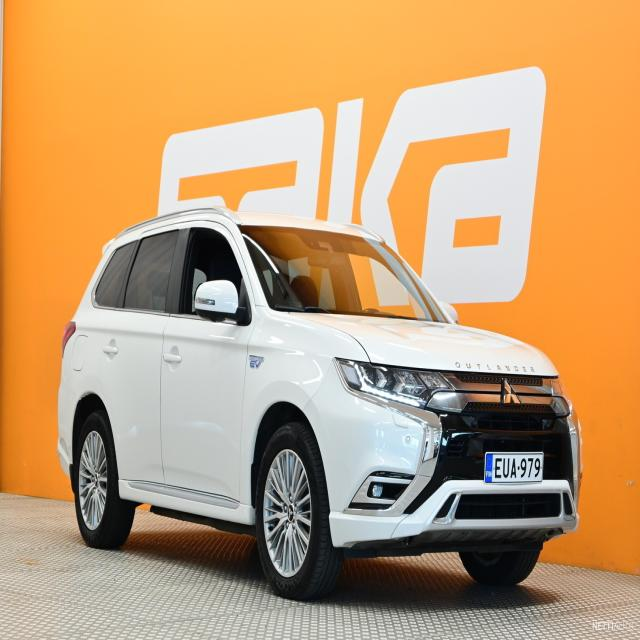light_vehicle: (56, 198, 582, 600)
